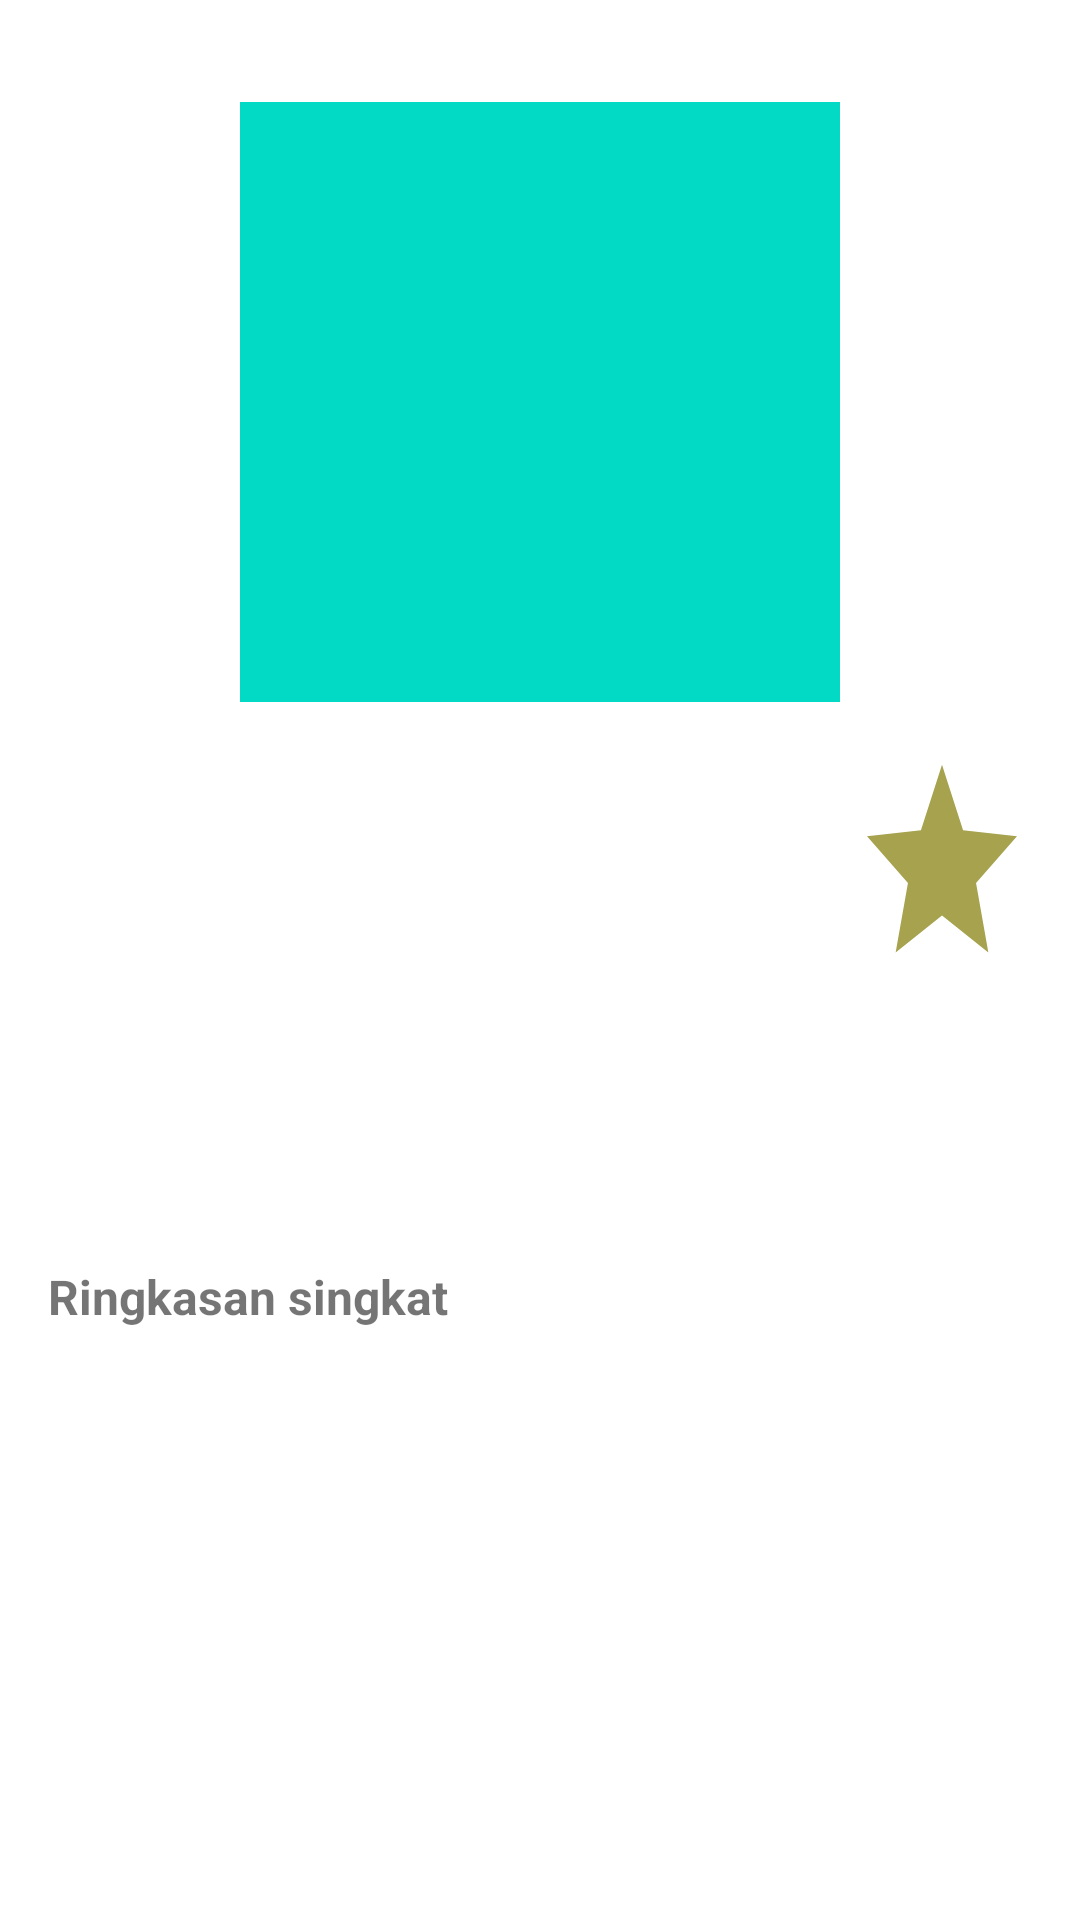

Icons on this 1080px x 1920px Android screen, each with its box as [x1, y1, x2, y2]:
star: [867, 765, 1017, 952]
